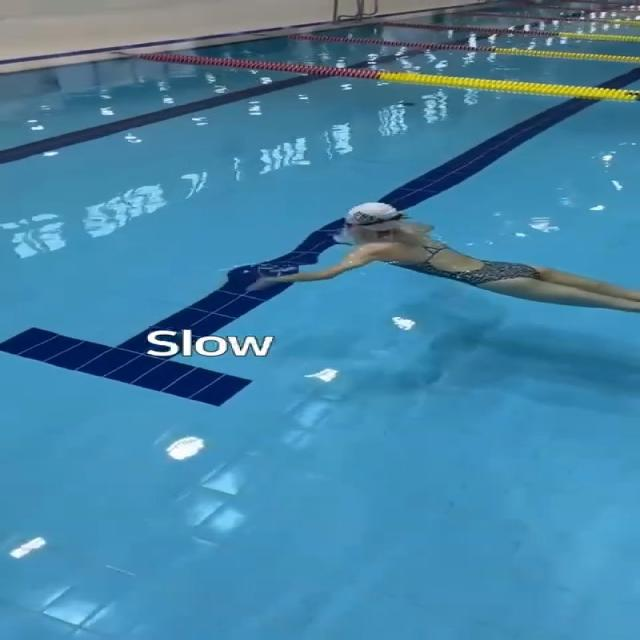Swimming: (238, 190, 640, 317)
